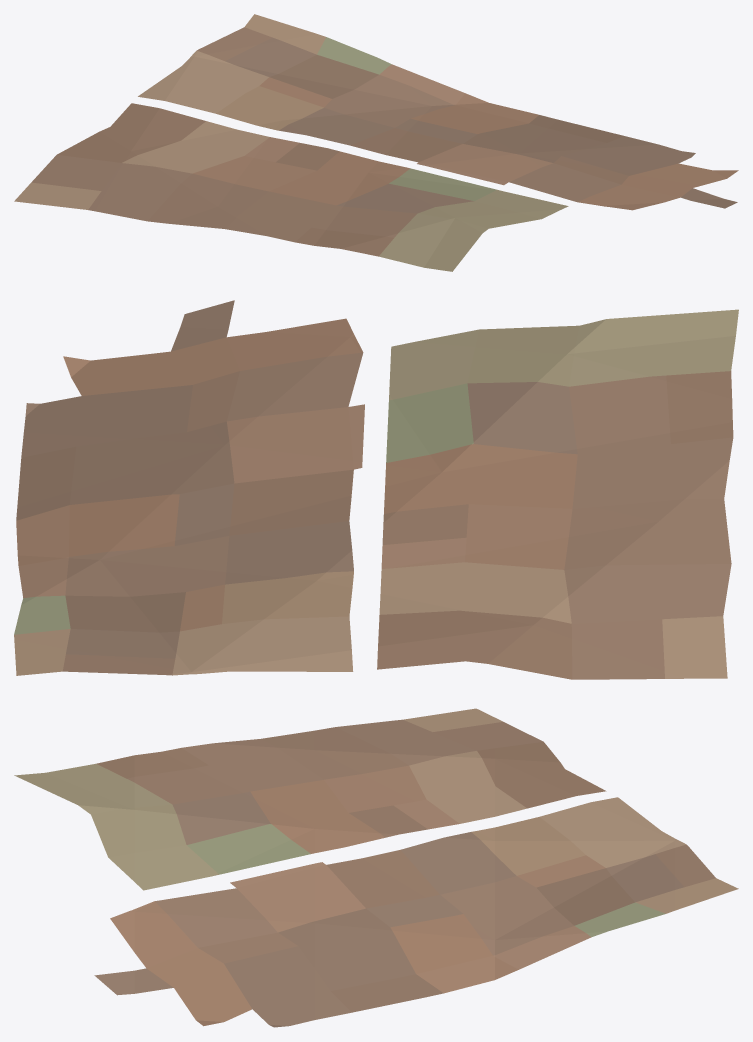
Rendered from farm_-18_-28_soil.glb.
The picture shows the model from 3 angles, top to bottom: view 1: azimuth 30°, elevation 25°; view 2: azimuth 150°, elevation 25°; view 3: azimuth 270°, elevation 25°; orthographic projection. The views are drawn at different scales.
Parts seen in each view (by area): view 1: geometry_0; view 2: geometry_0; view 3: geometry_0.
Part boxes in pixels (x1,y1,x2,y2): geometry_0: [14, 14, 738, 271]; geometry_0: [14, 300, 738, 679]; geometry_0: [14, 708, 738, 1027].
Size of the model in its own units: 315 by 34.42 by 322.
